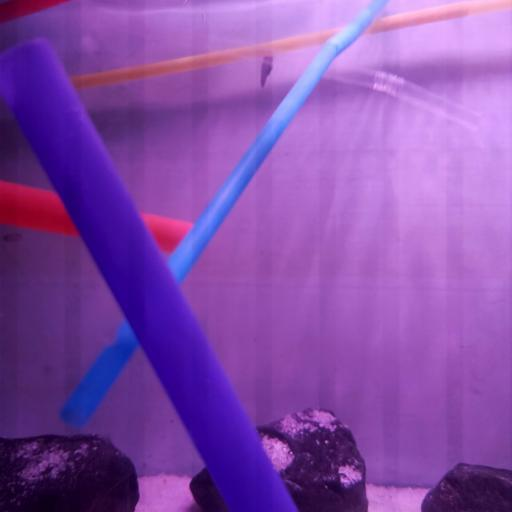plastic_straw: (0, 35, 299, 512), (59, 0, 387, 431), (66, 2, 507, 96), (0, 176, 191, 258), (322, 61, 481, 136)
